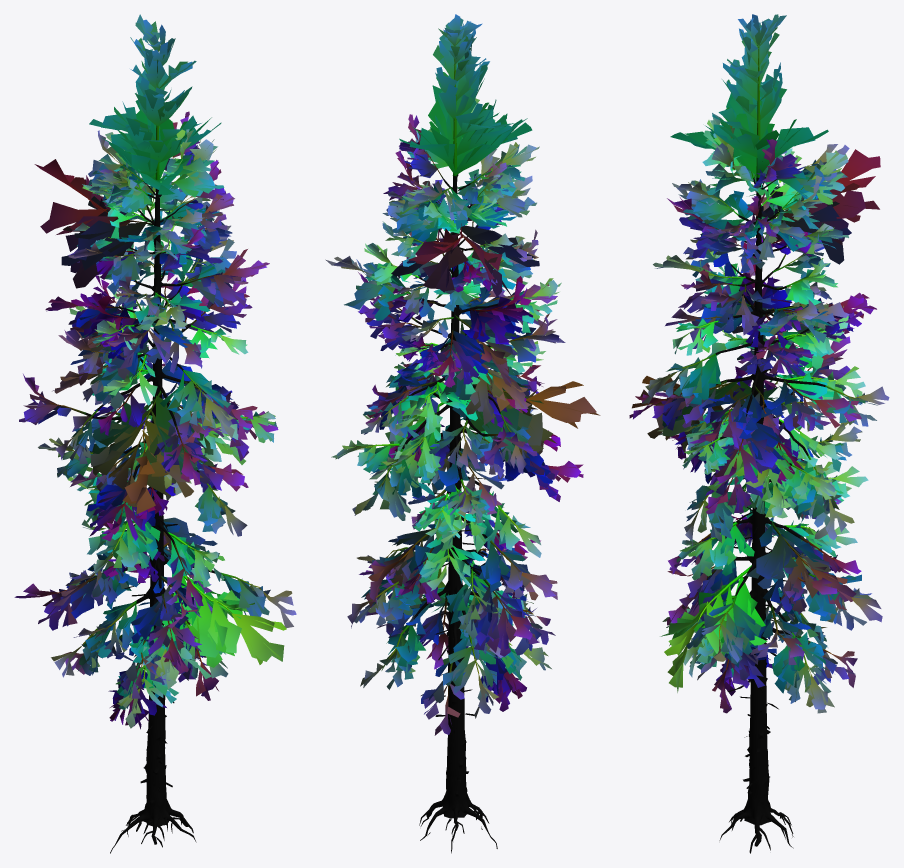
Rendered from SM_SilverFir_XL_02.fbx.
The picture shows the model from 3 angles, left to right: view 1: azimuth 30°, elevation 25°; view 2: azimuth 150°, elevation 25°; view 3: azimuth 270°, elevation 25°; orthographic projection.
Parts seen in each view (by area): view 1: SM_SilverFir_XL_02_LOD0; view 2: SM_SilverFir_XL_02_LOD0; view 3: SM_SilverFir_XL_02_LOD0.
Boxes of the visible parts, left/top/right/bottom form: SM_SilverFir_XL_02_LOD0: left=14, top=14, right=296, bottom=853; SM_SilverFir_XL_02_LOD0: left=325, top=14, right=600, bottom=853; SM_SilverFir_XL_02_LOD0: left=629, top=14, right=889, bottom=853.
Bounding box in the file's own units: 1272 × 1254 × 4414.
